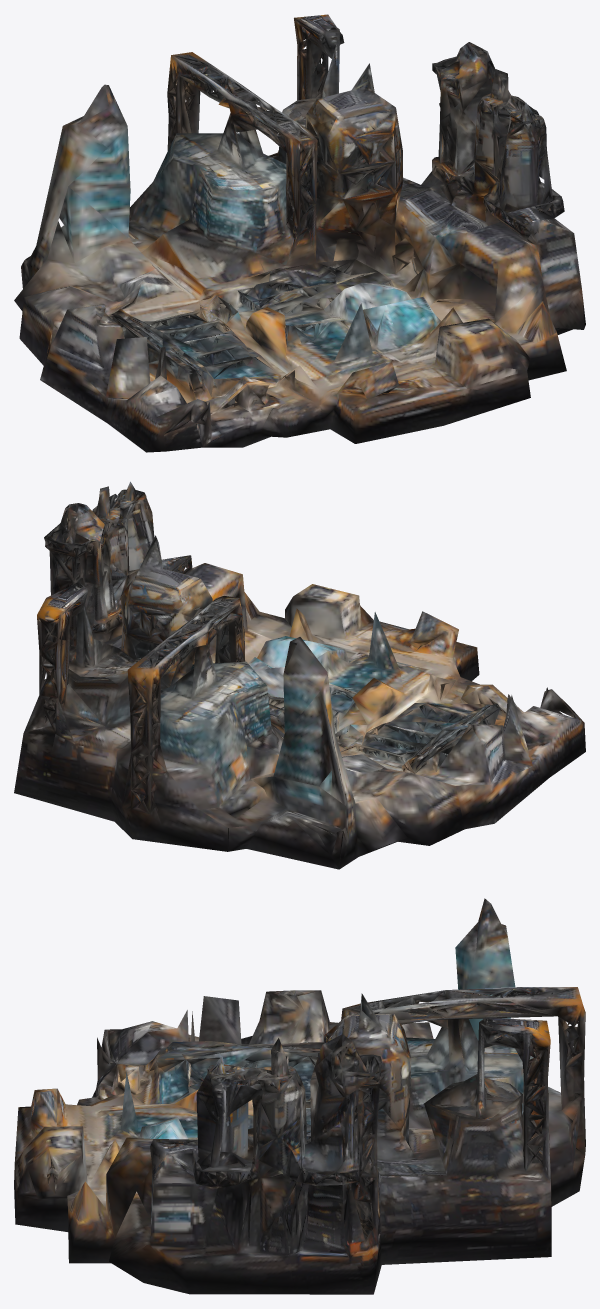
Rendered from building-aquaculture-facility-l5.glb.
3 views of the same model, one above another, from view 1: azimuth 30°, elevation 25°; view 2: azimuth 150°, elevation 25°; view 3: azimuth 270°, elevation 25° (orthographic). The views are drawn at different scales.
Visible parts, largest first — view 1: tripo_node_64234467-a541-48bd-8a4f-f0fa181fc5a7; view 2: tripo_node_64234467-a541-48bd-8a4f-f0fa181fc5a7; view 3: tripo_node_64234467-a541-48bd-8a4f-f0fa181fc5a7.
Boxes of the visible parts, box(x1,y1,x2,y2) form: tripo_node_64234467-a541-48bd-8a4f-f0fa181fc5a7: box(14, 14, 585, 452); tripo_node_64234467-a541-48bd-8a4f-f0fa181fc5a7: box(14, 481, 585, 869); tripo_node_64234467-a541-48bd-8a4f-f0fa181fc5a7: box(14, 898, 585, 1294).
Size of the model in its own units: 0.9695 by 0.4673 by 0.966.
Materials: 1 (1 with a texture image).
